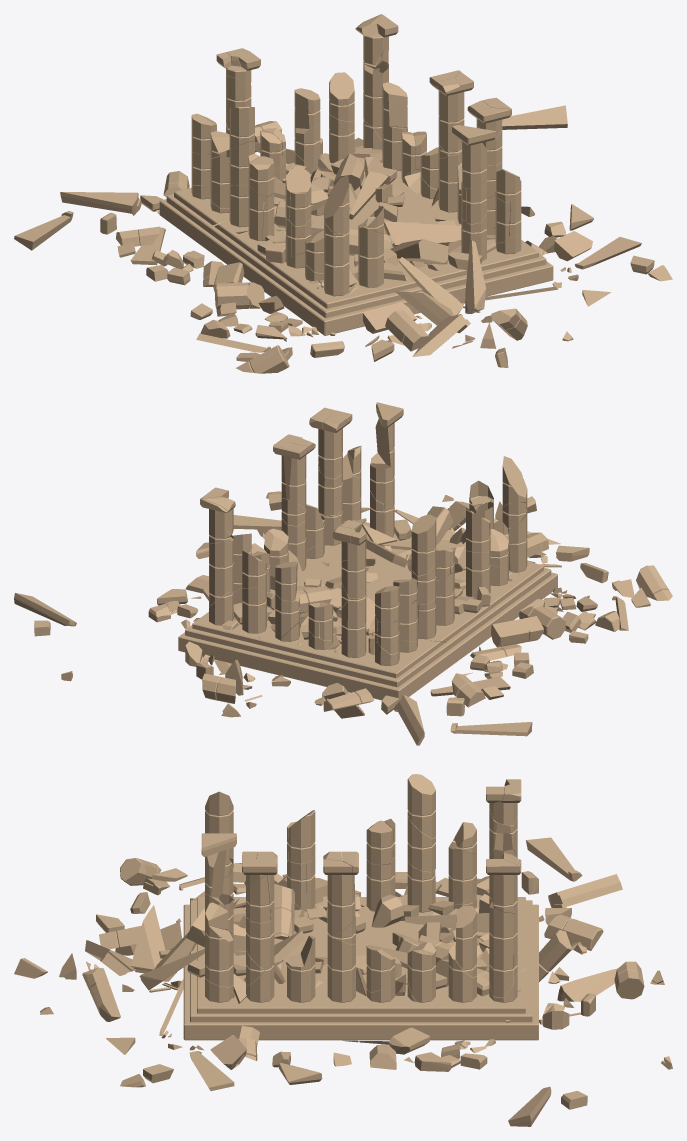
The model's file is Parthenon-Destroyed.fbx.
3 views of the same model, one above another, from view 1: azimuth 30°, elevation 25°; view 2: azimuth 150°, elevation 25°; view 3: azimuth 270°, elevation 25° (orthographic). The views are drawn at different scales.
Visible parts, largest first — view 1: base topper 2, base, base topper, pillars b_cell.062, pillars b_cell.090, roof_cell.028, pillars b_cell.173, roof_cell.048, pillars b_cell.031, roof_cell.057, pillars b_cell.172, pillars b_cell.103 (+50 smaller); view 2: base topper 2, base, base topper, pillars b_cell.065, pillars b_cell.170, pillars b_cell.133, pillars b_cell.089, pillars b_cell.173, pillars b_cell.171, pillars b_cell.017, pillars b_cell.079, pillars b_cell.062 (+38 smaller); view 3: base topper 2, base, base topper, pillars b_cell.003, pillars b_cell.103, pillars b_cell.070, pillars b_cell.173, pillars b_cell.170, pillars b_cell.038, roof_cell.082, pillars b_cell.029, pillars b_cell.078 (+44 smaller).
Part boxes in pixels (left/top/right/bottom): base topper 2: left=174, top=146, right=538, bottom=308; base: left=159, top=199, right=553, bottom=335; base topper: left=166, top=194, right=546, bottom=318; pillars b_cell.062: left=324, top=232, right=349, bottom=296; pillars b_cell.090: left=358, top=222, right=383, bottom=287; roof_cell.028: left=384, top=221, right=461, bottom=247; pillars b_cell.173: left=438, top=91, right=464, bottom=155; roof_cell.048: left=60, top=192, right=141, bottom=215; pillars b_cell.031: left=324, top=175, right=349, bottom=234; roof_cell.057: left=502, top=105, right=567, bottom=129; pillars b_cell.172: left=215, top=282, right=264, bottom=309; pillars b_cell.103: left=438, top=151, right=461, bottom=212; base topper 2: left=192, top=522, right=543, bottom=678; base: left=178, top=572, right=557, bottom=700; base topper: left=185, top=567, right=551, bottom=687; pillars b_cell.065: left=209, top=537, right=233, bottom=605; pillars b_cell.170: left=411, top=514, right=436, bottom=576; pillars b_cell.133: left=343, top=595, right=366, bottom=657; pillars b_cell.089: left=491, top=616, right=543, bottom=647; pillars b_cell.173: left=281, top=455, right=306, bottom=510; pillars b_cell.171: left=242, top=583, right=266, bottom=633; pillars b_cell.017: left=318, top=429, right=342, bottom=478; pillars b_cell.079: left=341, top=543, right=366, bottom=598; pillars b_cell.062: left=503, top=505, right=527, bottom=572; base topper 2: left=197, top=897, right=525, bottom=1013; base: left=183, top=904, right=538, bottom=1040; base topper: left=190, top=900, right=532, bottom=1022; pillars b_cell.003: left=489, top=901, right=513, bottom=997; pillars b_cell.103: left=327, top=935, right=355, bottom=1002; pillars b_cell.070: left=205, top=925, right=233, bottom=986; pillars b_cell.173: left=327, top=875, right=355, bottom=936; pillars b_cell.170: left=407, top=774, right=435, bottom=838; pillars b_cell.038: left=448, top=841, right=476, bottom=904; roof_cell.082: left=131, top=905, right=165, bottom=973; pillars b_cell.029: left=455, top=906, right=476, bottom=977; pillars b_cell.078: left=407, top=950, right=433, bottom=1002.
Size of the model in its own units: 378 by 123 by 371.
